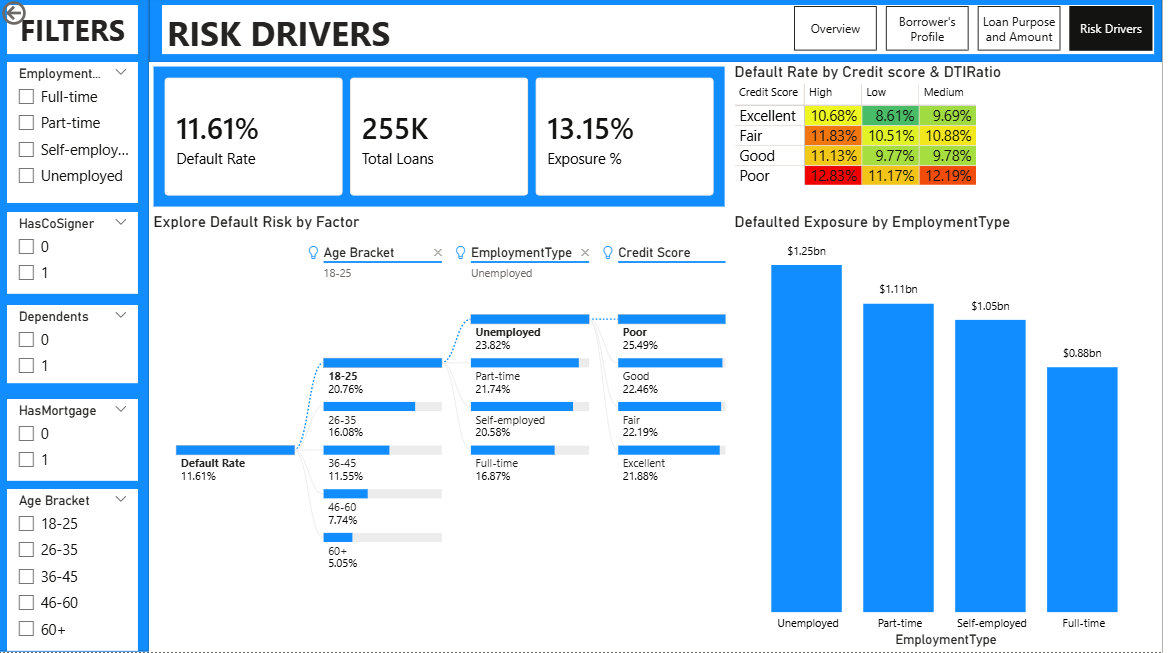

What the dashboard file says about the page in this screenshot:
{"tool":"powerbi","page":{"name":"Risk Drivers ","canvas":[1280,720],"ordinal":3},"visuals":[{"type":"shape","box":[165.8,0,1114.2,72],"z":0},{"type":"textbox","box":[179.9,9,1091.1,54],"z":1000},{"type":"decompositionTreeVisual","title":"Explore Default Risk by Factor","fields":{"ExplainBy":["Loan_default.Age Bracket ","EmploymentType.EmploymentType","Loan_default.Credit Score ","Loan_default.HasCoSigner","Loan_default.HasDependents","Loan_default.DTIRatio Band"],"Analyze":["Loan_default.Default Rate"]},"box":[166,236.4,638.9,482.7],"z":2000},{"type":"cardVisual","fields":{"Data":["Loan_default.Default Rate","Loan_default.Total Loans","Loan_default.Exposure %"]},"box":[166,71.5,638.9,164.9],"z":3000},{"type":"shape","box":[0,0,165.8,719.7],"z":4000},{"type":"slicer","fields":{"Values":["Loan_default.Age Bracket "]},"box":[9.9,541,144.1,178.1],"z":5000},{"type":"slicer","fields":{"Values":["EmploymentType.EmploymentType"]},"box":[9.9,71.5,144.1,155.1],"z":6000},{"type":"slicer","title":"Dependents","fields":{"Values":["Loan_default.HasDependents"]},"box":[9.9,338.7,144.1,85.8],"z":7000},{"type":"slicer","fields":{"Values":["Loan_default.HasCoSigner"]},"box":[9.9,236.4,144.1,90.2],"z":8000},{"type":"slicer","fields":{"Values":["Loan_default.HasMortgage"]},"box":[9.9,442.1,144.1,90.2],"z":9000},{"type":"textbox","box":[9.9,8.8,144.1,53.9],"z":10000},{"type":"pivotTable","title":"Default Rate by Credit score & DTIRatio","fields":{"Values":["Loan_default.Default Rate"],"Rows":["Loan_default.Credit Score "],"Columns":["Loan_default.DTIRatio Band"]},"box":[804.9,71.5,475.1,155.1],"z":11000},{"type":"lineClusteredColumnComboChart","fields":{"Y":["Loan_default.Defaulted Exposure"],"Category":["EmploymentType.EmploymentType"]},"box":[805,236,475,483],"z":12000},{"type":"pageNavigator","box":[875,10.4,397.2,49.5],"z":13000},{"type":"actionButton","box":[0,0,53.4,35.2],"z":14000}]}

Visuals, with their boxes in screenshot pixels (x1, y1, x2, y2), scaled from the page's 1280x720 canvas onto the 1168x653 screenshot:
shape: box(151, 0, 1167, 65)
textbox: box(164, 8, 1160, 57)
"Explore Default Risk by Factor" decompositionTreeVisual: box(151, 214, 734, 652)
cardVisual - Loan_default.Default Rate x Loan_default.Total Loans: box(151, 65, 734, 214)
shape: box(0, 0, 151, 652)
slicer - Loan_default.Age Bracket : box(9, 491, 141, 652)
slicer - EmploymentType.EmploymentType: box(9, 65, 141, 206)
"Dependents" slicer: box(9, 307, 141, 385)
slicer - Loan_default.HasCoSigner: box(9, 214, 141, 296)
slicer - Loan_default.HasMortgage: box(9, 401, 141, 483)
textbox: box(9, 8, 141, 57)
"Default Rate by Credit score & DTIRatio" pivotTable: box(734, 65, 1167, 206)
lineClusteredColumnComboChart - Loan_default.Defaulted Exposure x EmploymentType.EmploymentType: box(735, 214, 1167, 652)
pageNavigator: box(798, 9, 1161, 54)
actionButton: box(0, 0, 49, 32)
